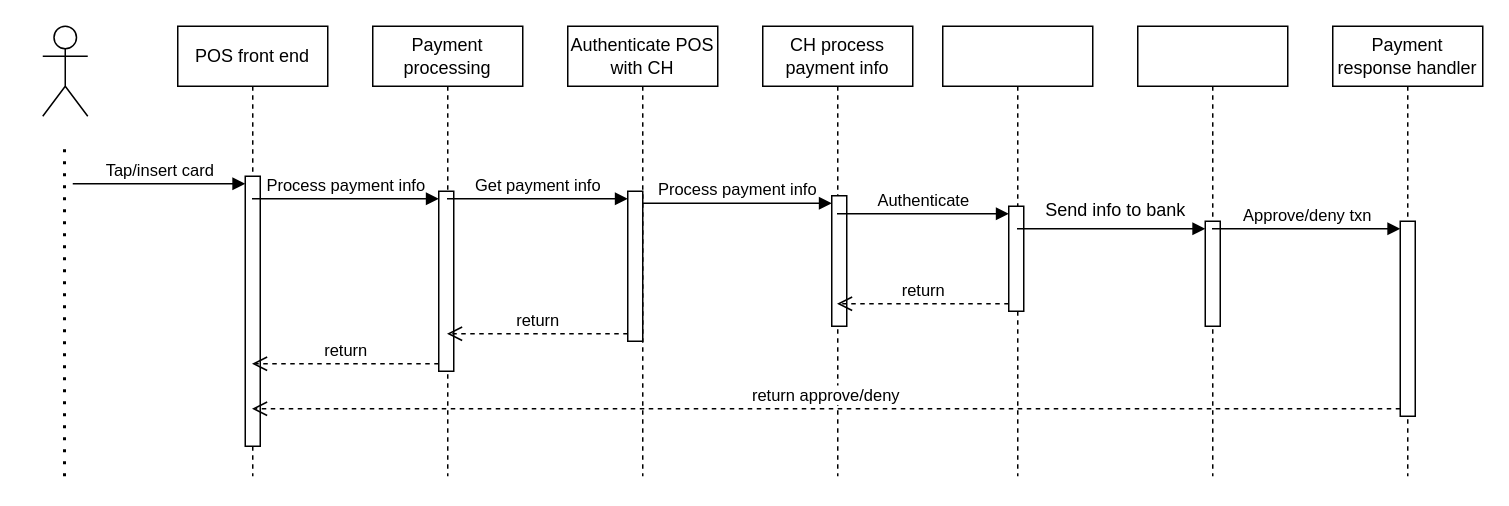
Image size: 1509x506. Some labels were removed from this diagram. Each missing label, with the box of its shape:
Authenticate CH with bank: (941, 25, 1093, 476)
Bank processes information: (1136, 25, 1288, 476)
Customer: (41, 25, 88, 116)
